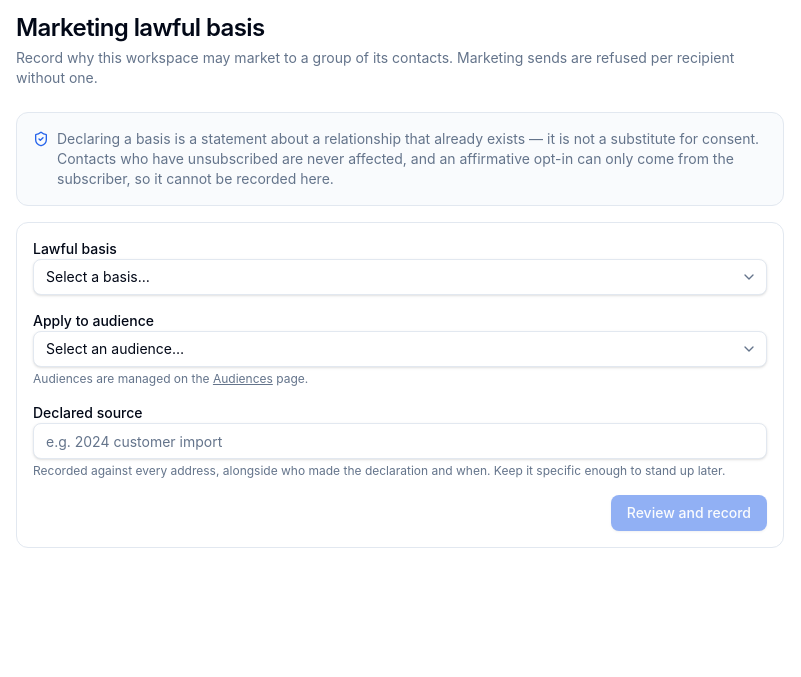
Scenario: MarketingConsentPage form › keeps the CASL expiry blocking until it is supplied
This screenshot has width=801, height=677.
Select "Implied consent — transaction (CASL)" in the dropdown labelled "Lawful basis". click: (400, 277)
box: [33,259,767,295]
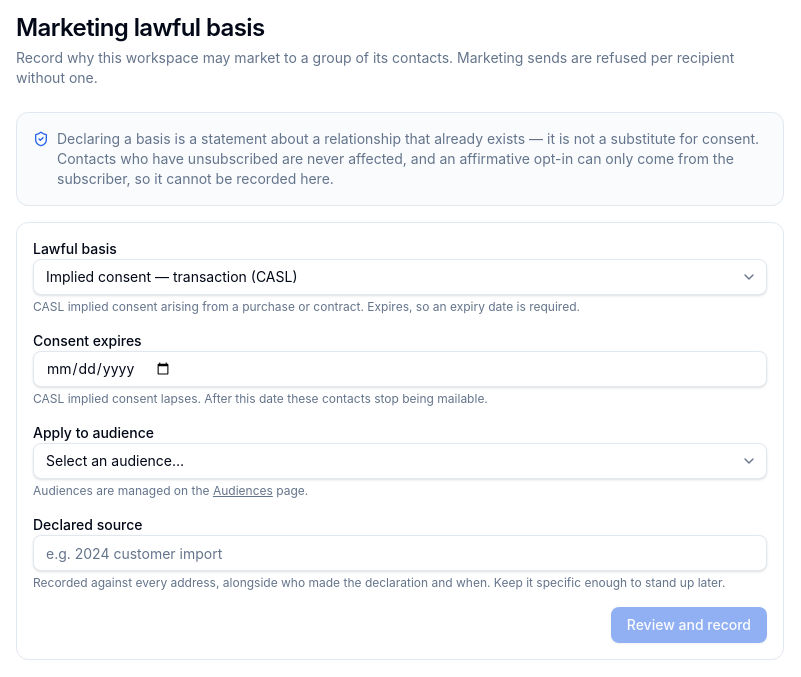
Select "Customers" in the dropdown labelled "Apply to audience". click: (400, 461)
box: [33,443,767,479]
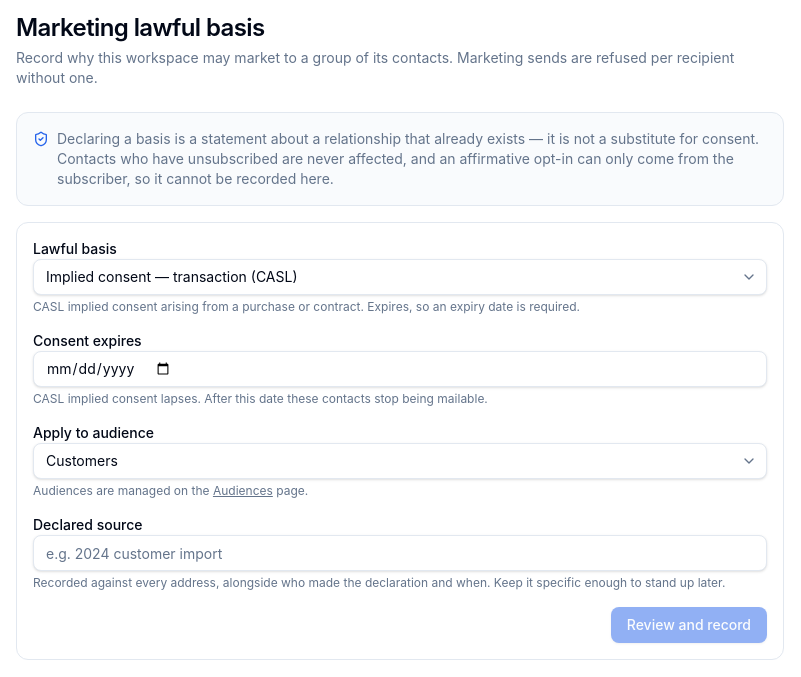
Type "orders" into the field labelled "Declared source". click: (400, 553)
box: [33,535,767,571]
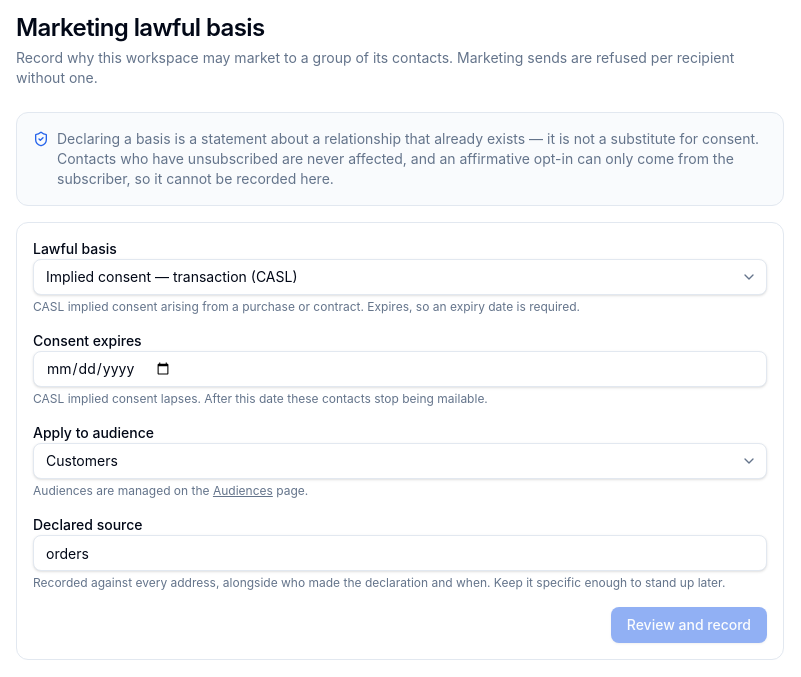
Check: the button "Review and record" is disabled, box [611,607,767,643]
Type "2027-01-01" into the date field labelled "Consent expires". click: (400, 369)
box: [33,351,767,387]
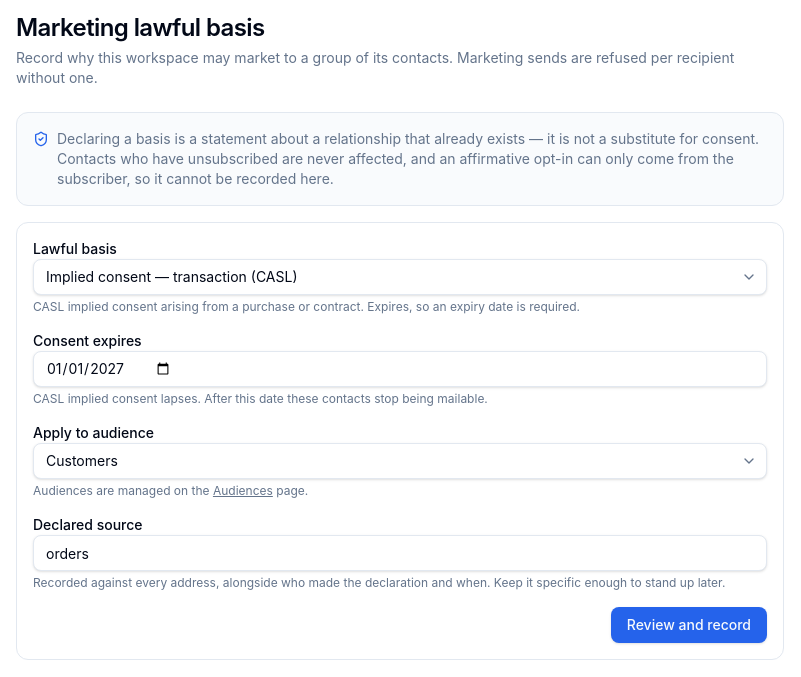
Check: the button "Review and record" is enabled, box [611,607,767,643]
